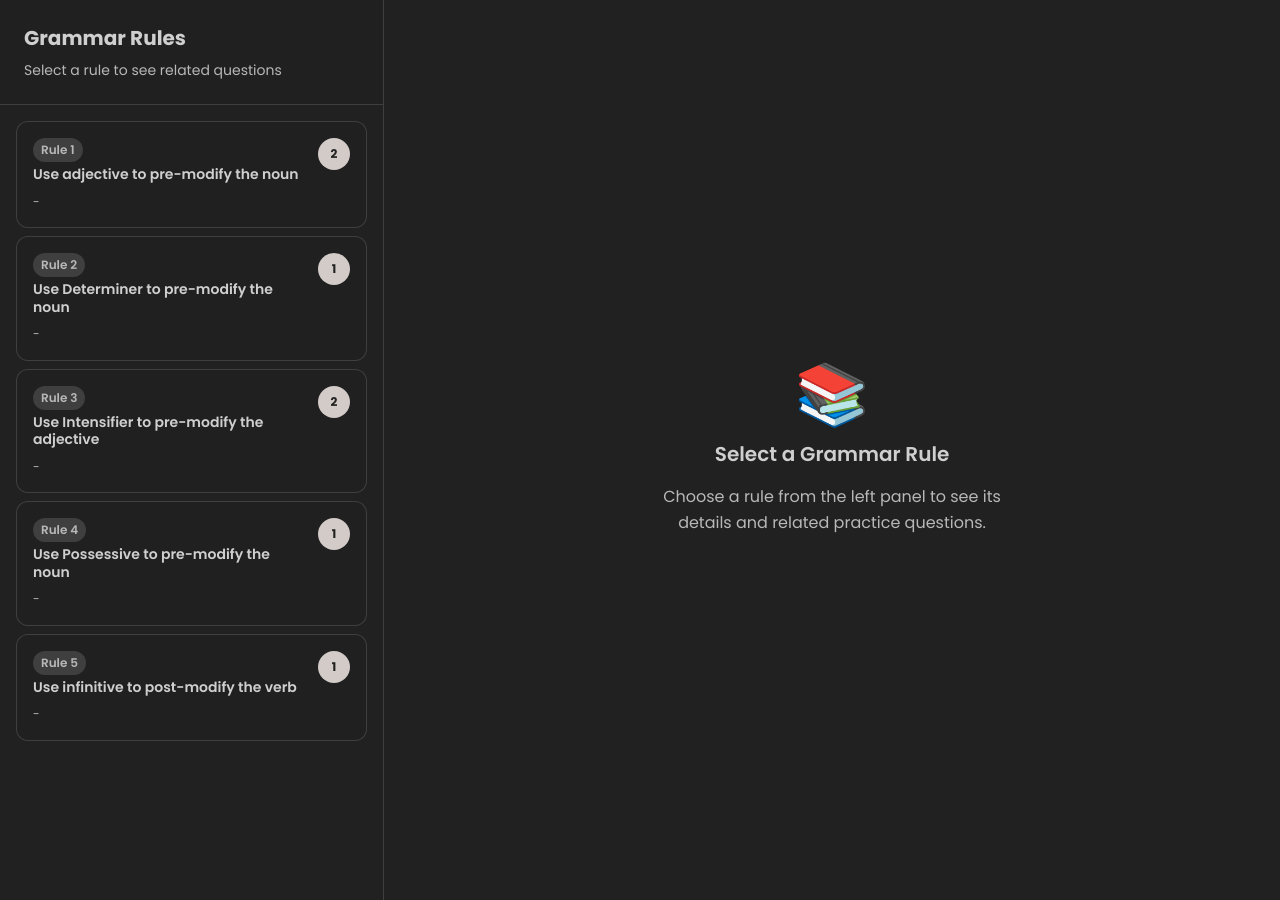
Test: Combined Section Comprehensive Validation › Interactive Answer Reveal Functionality › should integrate InteractiveAnswerReveal for rule examples
Note: Click on a rule to see its examples
Click the button "Use adjective to pre-modify the noun": (192, 174) [16, 121, 367, 228]
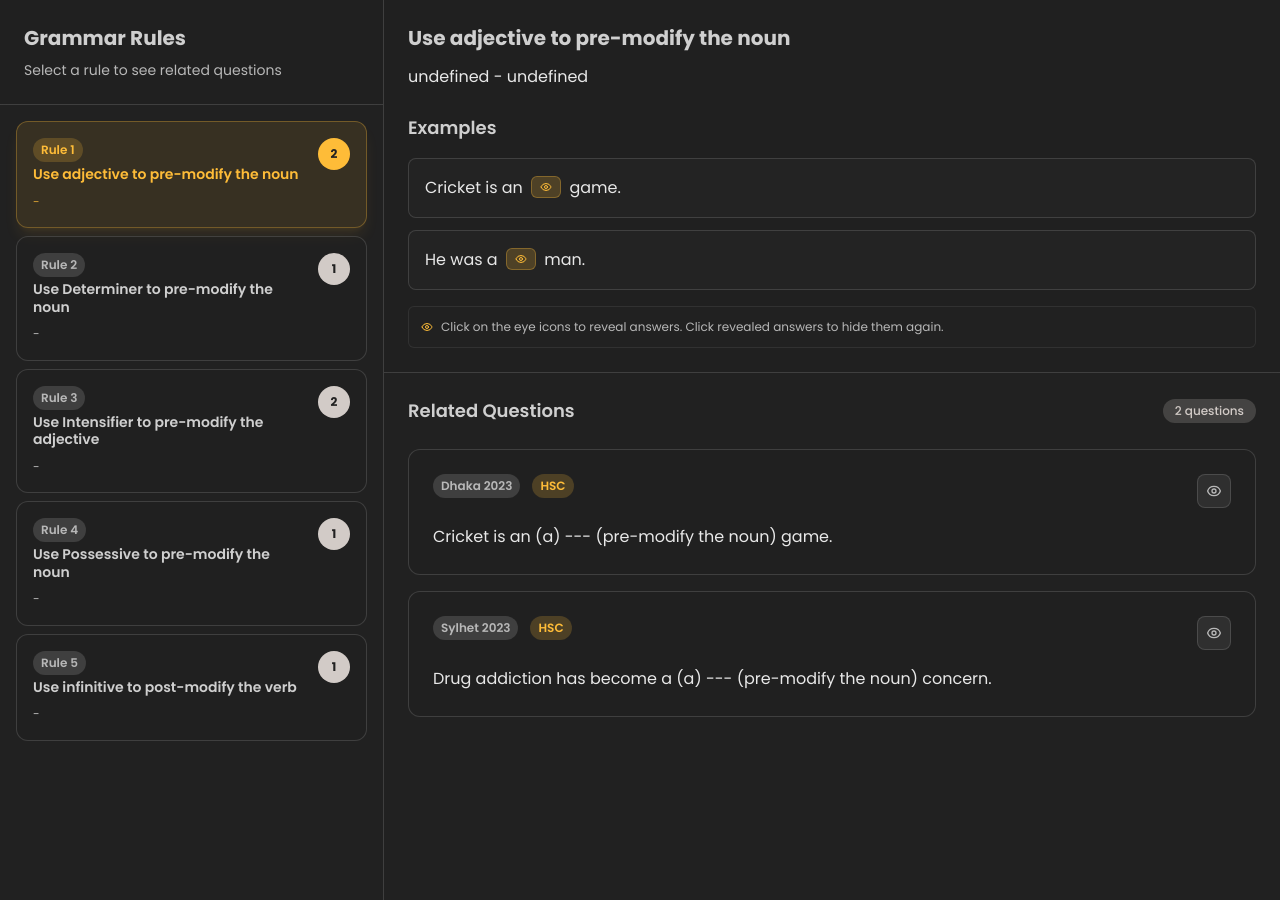
Now the heading "Examples" is shown, box [408, 115, 496, 140]
Now the number of buttons with test id "eye-button" is 2, box [531, 176, 561, 198]; [506, 248, 536, 270]
Now the text "Click on the eye icons to reveal answers" is shown, box [441, 318, 944, 335]
